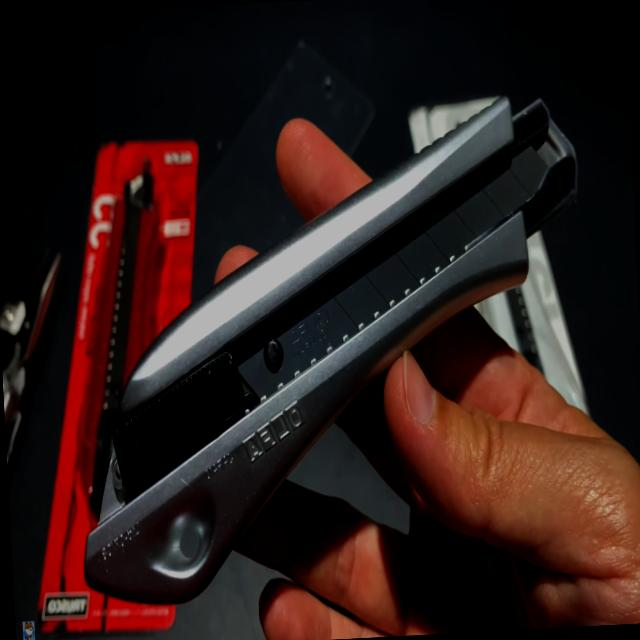cutter: (44, 25, 610, 640)
